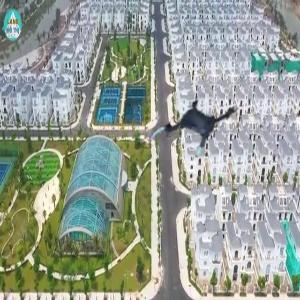drone: (150, 88, 235, 173)
